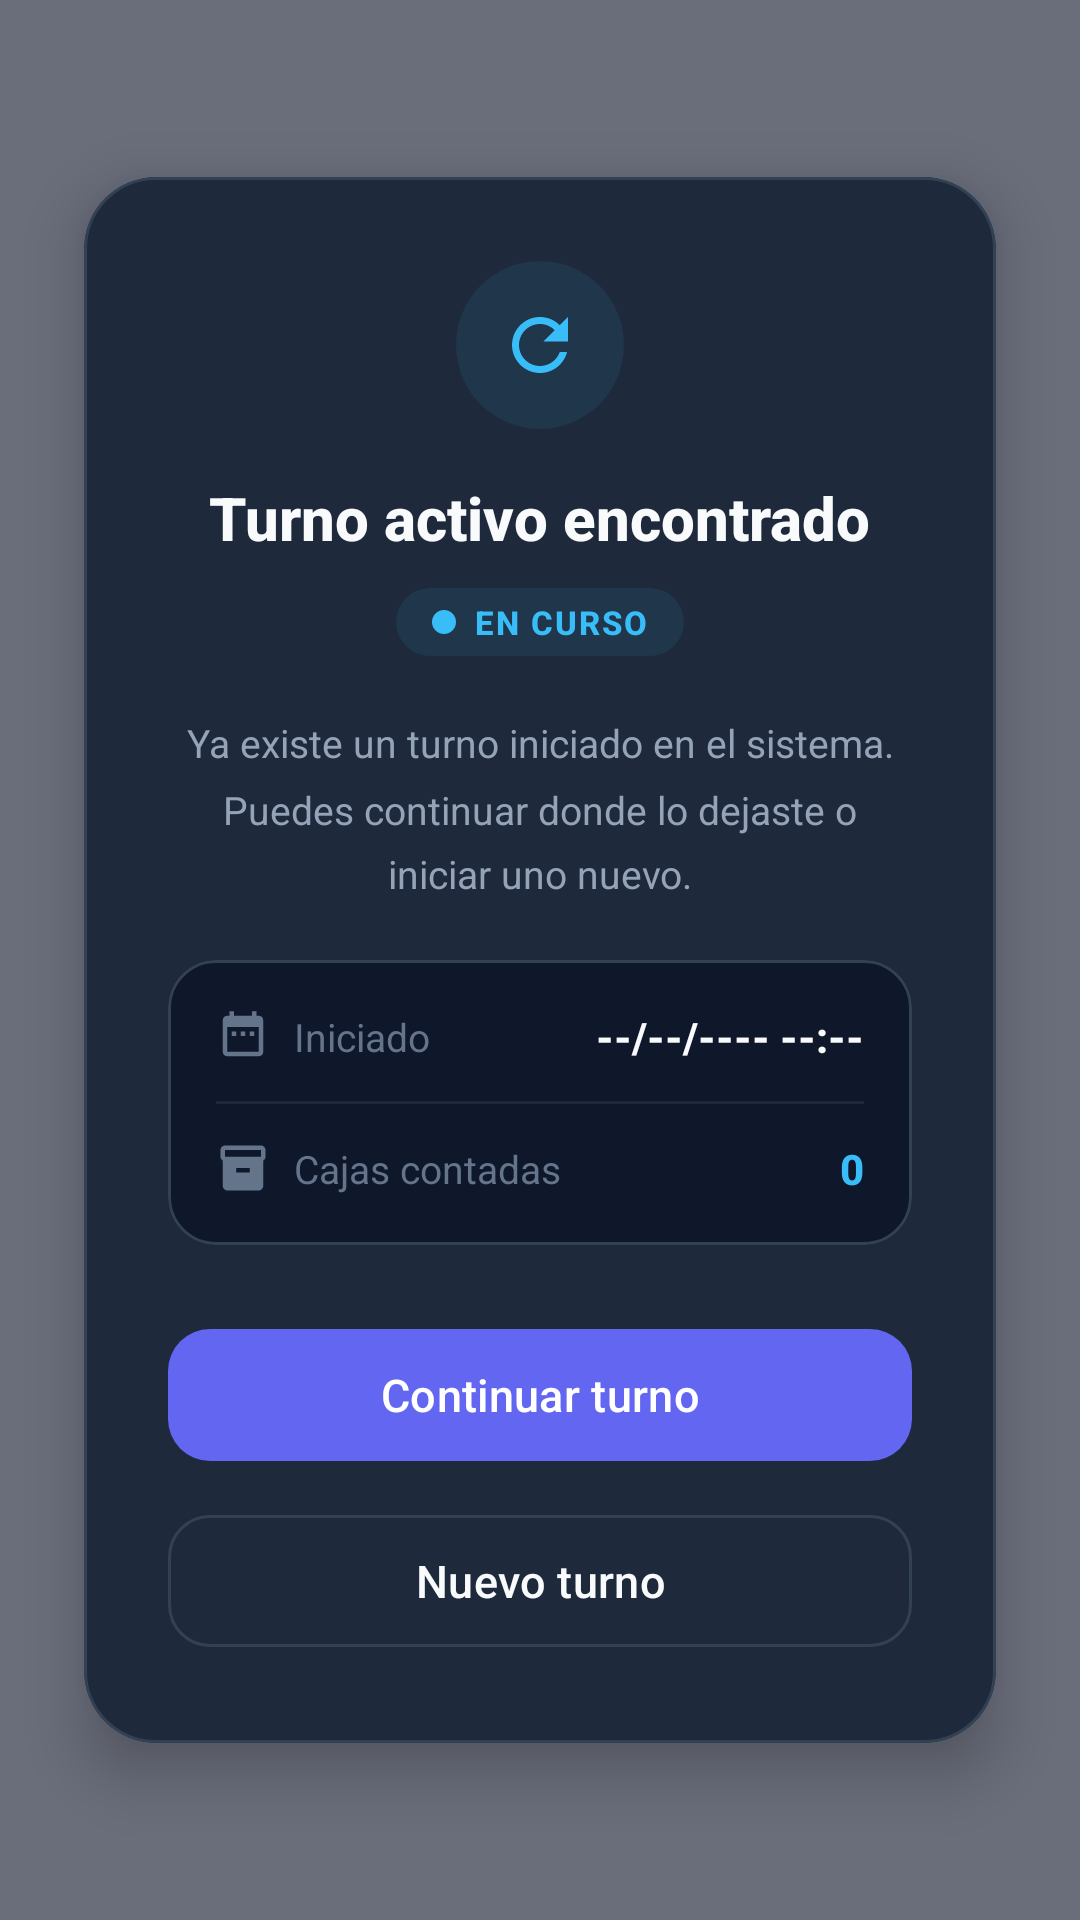

Icons on this 1080px x 1920px Android screen, each with the point to tap as [x,y]:
Fecha: [243,1034]
